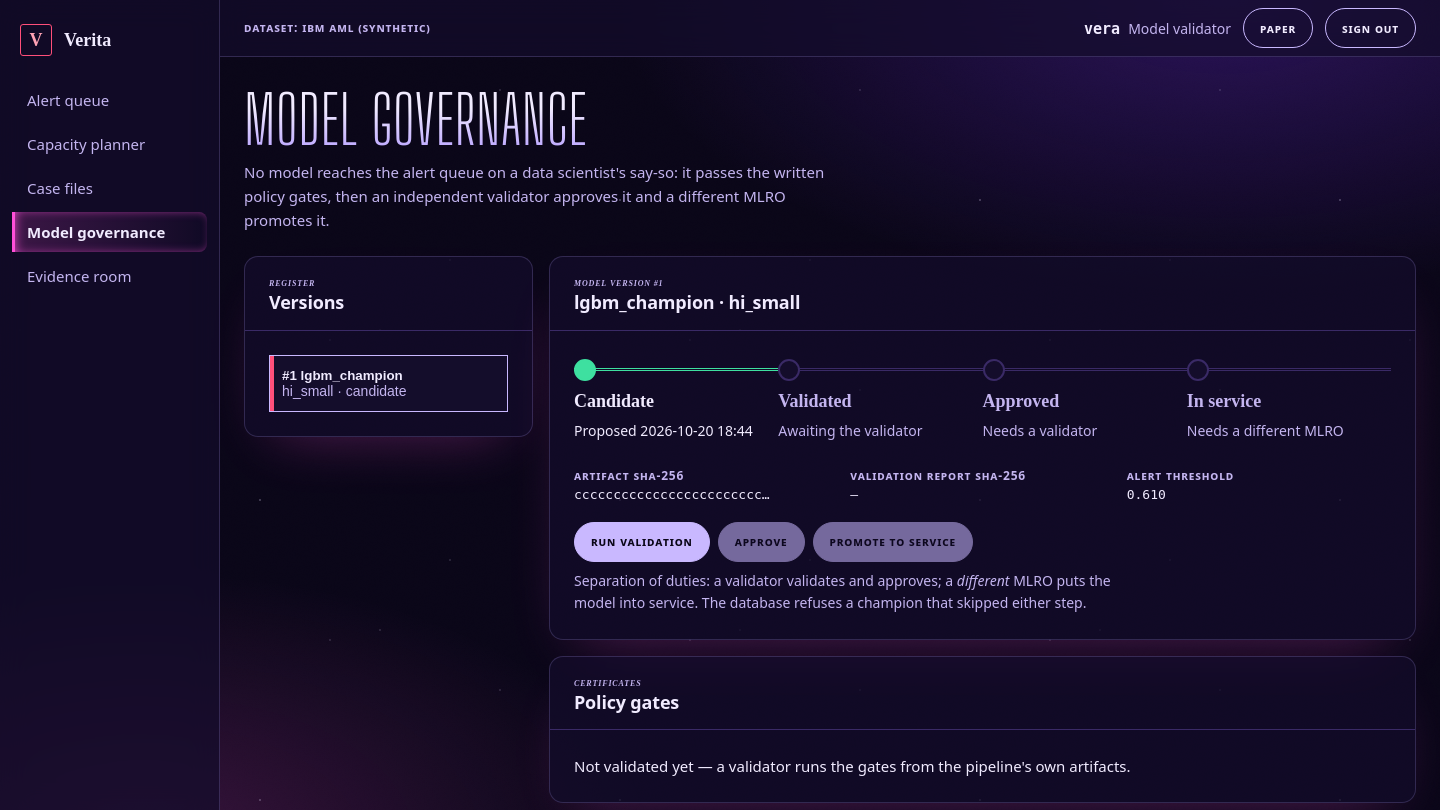
Test: shows the lifecycle, the gate certificates and lets a validator run validation
Expected: the heading "Model governance" is shown, [244,89,1416,152]
Expected: the text "Awaiting the validator" is shown, [778,420,922,440]
Click the button "Run validation" at (642, 542), box [574,522,710,562]
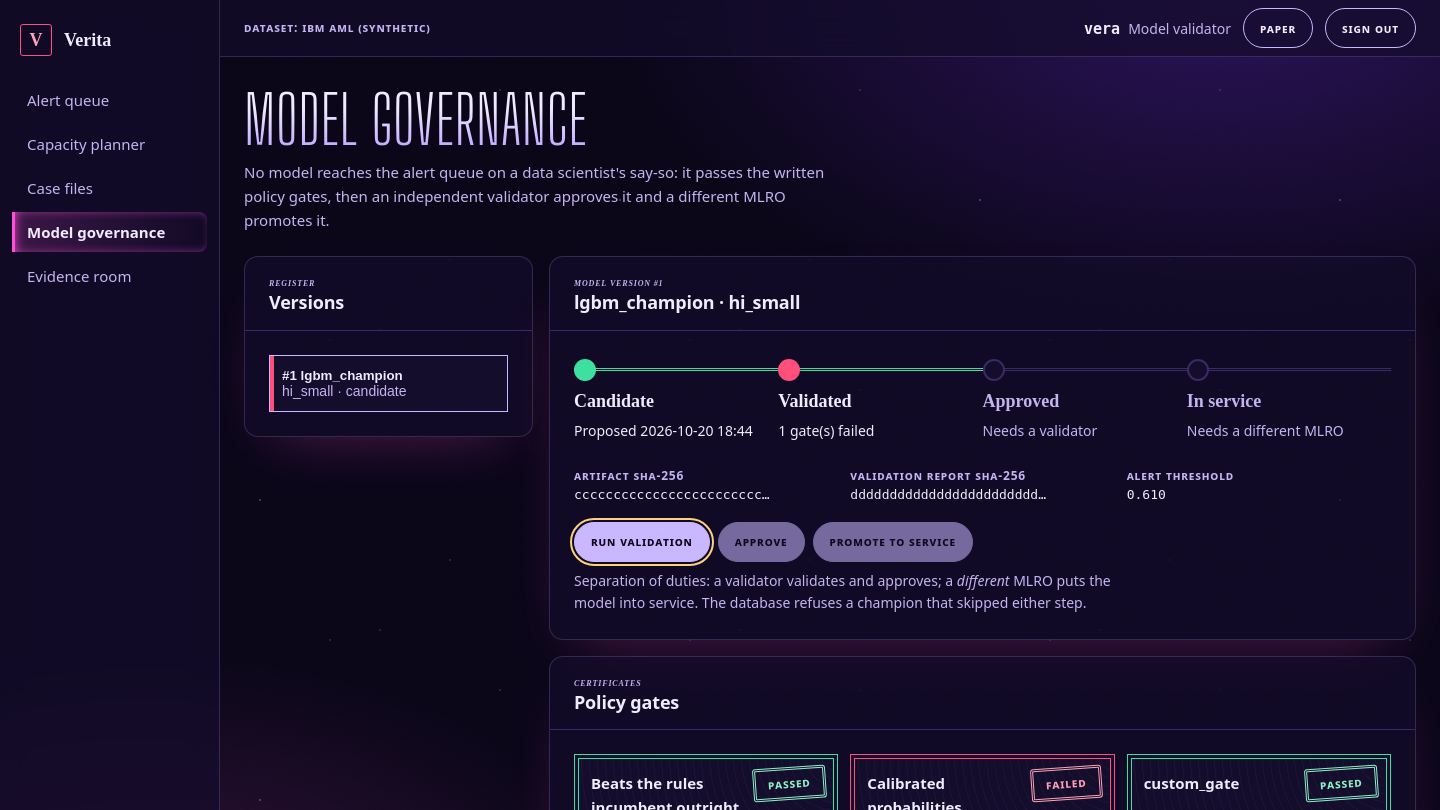
Result: the text "1 gate(s) failed" is shown at [778,420,874,440]
Result: the text "custom_gate" is shown at [1144,773,1239,793]
Result: the text "Failed" is shown at [1030,765,1103,803]
